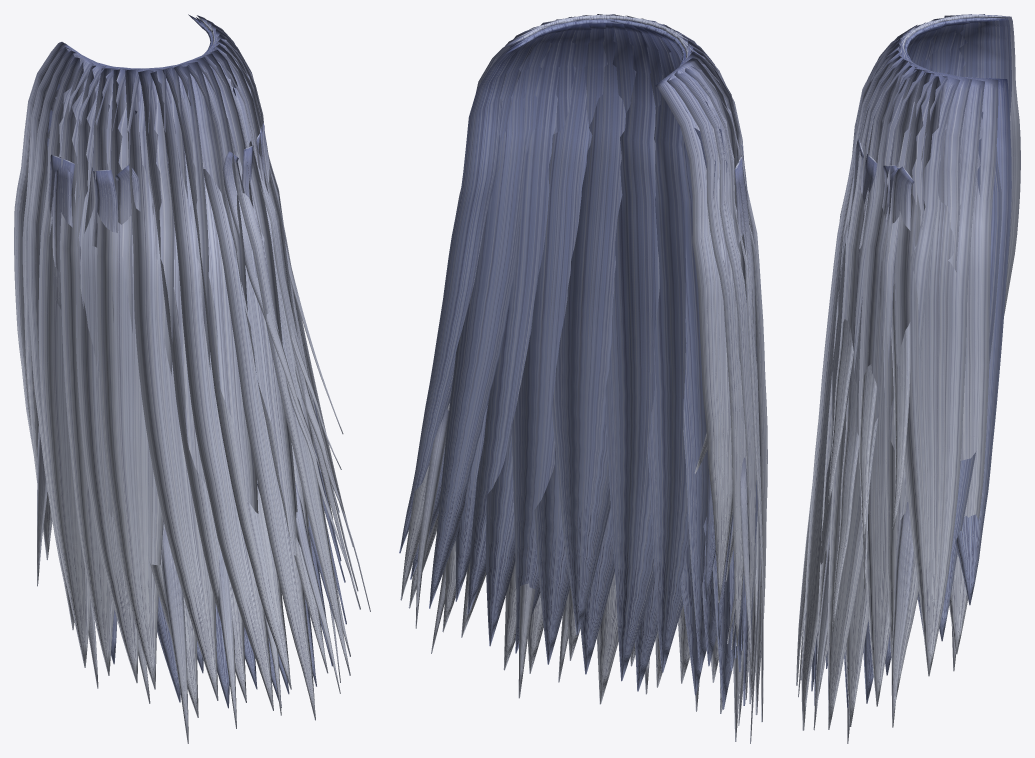
The model's file is astrea_back_hair.fbx.
3 renders of one model, left to right at view 1: azimuth 30°, elevation 25°; view 2: azimuth 150°, elevation 25°; view 3: azimuth 270°, elevation 25°, orthographic. The views are drawn at different scales.
Visible parts, largest first — view 1: AstreaBackHair; view 2: AstreaBackHair; view 3: AstreaBackHair.
Part boxes in pixels (x1,y1,x2,y2): AstreaBackHair: [14, 14, 370, 743]; AstreaBackHair: [399, 14, 767, 743]; AstreaBackHair: [796, 14, 1020, 743].
Bounding box in the file's own units: 243 × 488 × 155.
1 material, 1 textured.
